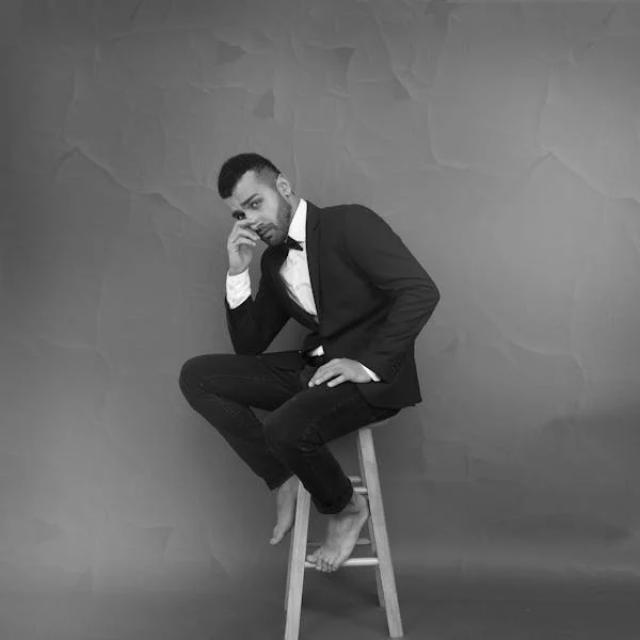Real human 2: (171, 136, 466, 584)
